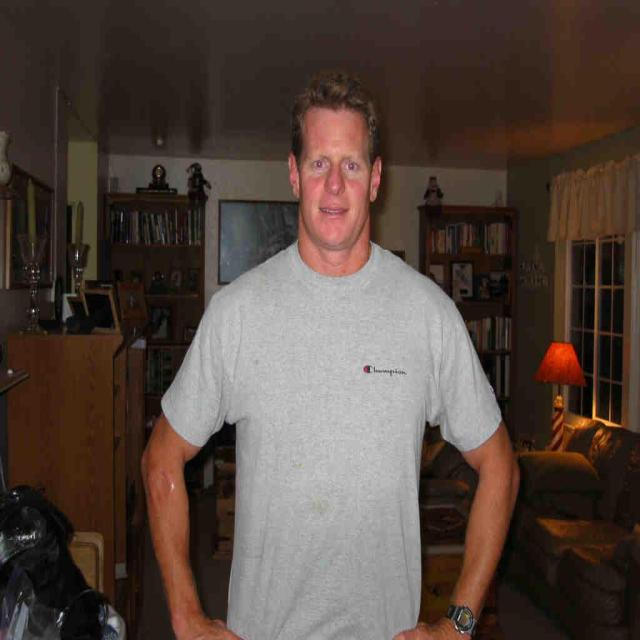Face: (305, 92, 372, 247)
